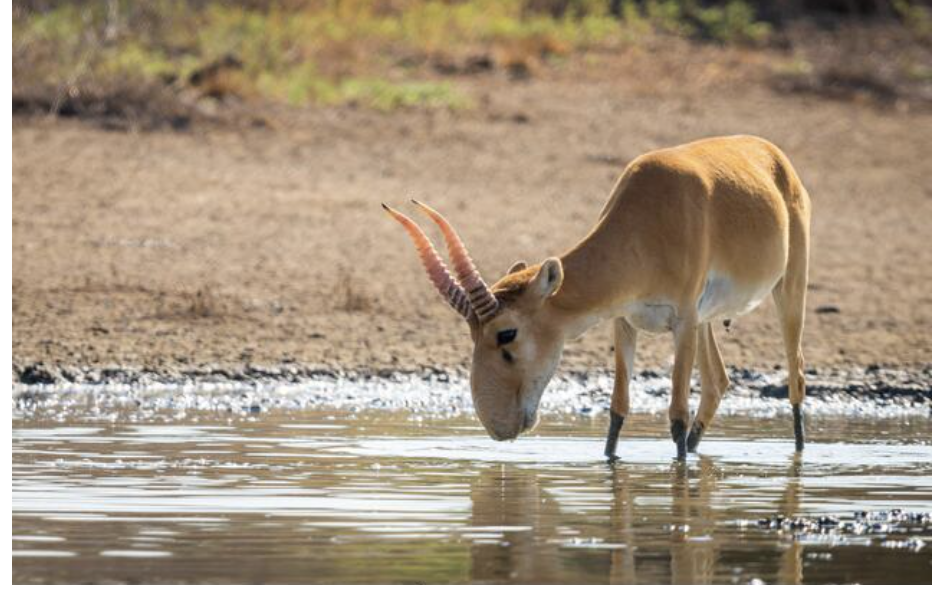saiga: (374, 113, 814, 457)
